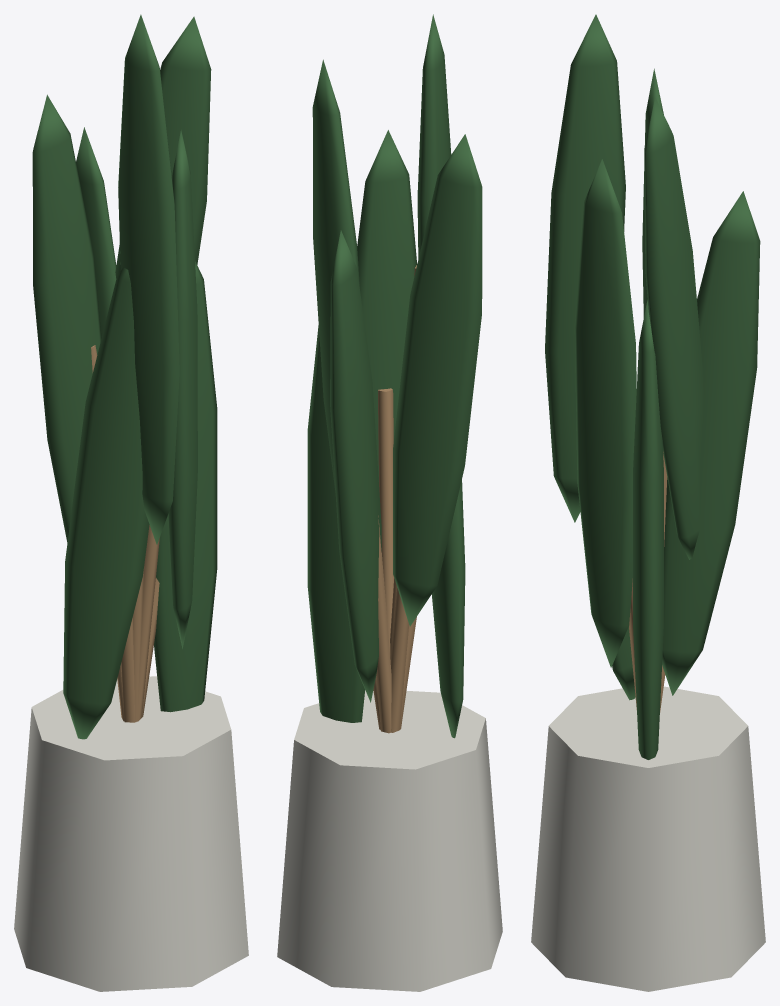
File: plant-3.glb
The picture shows the model from 3 angles, left to right: view 1: azimuth 30°, elevation 25°; view 2: azimuth 150°, elevation 25°; view 3: azimuth 270°, elevation 25°; orthographic projection. The views are drawn at different scales.
Parts seen in each view (by area): view 1: plant:3:editor; view 2: plant:3:editor; view 3: plant:3:editor.
Boxes of the visible parts, x1=… form: plant:3:editor: x1=14, y1=14, x2=248, y2=991; plant:3:editor: x1=277, y1=14, x2=502, y2=991; plant:3:editor: x1=531, y1=14, x2=765, y2=991.
Bounding box in the file's own units: 0.1736 × 0.7501 × 0.1736.
